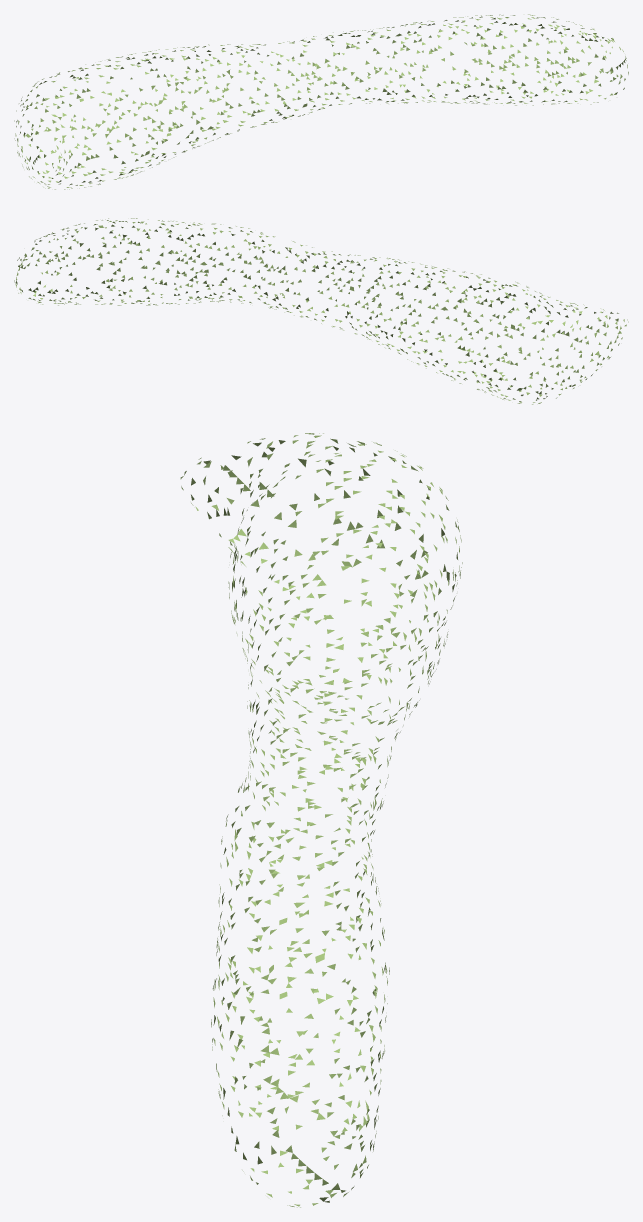
The model's file is morph_012.glb.
The picture shows the model from 3 angles, top to bottom: view 1: azimuth 30°, elevation 25°; view 2: azimuth 150°, elevation 25°; view 3: azimuth 270°, elevation 25°; orthographic projection. The views are drawn at different scales.
Bounding box in the file's own units: 106 × 23.77 × 22.29.
